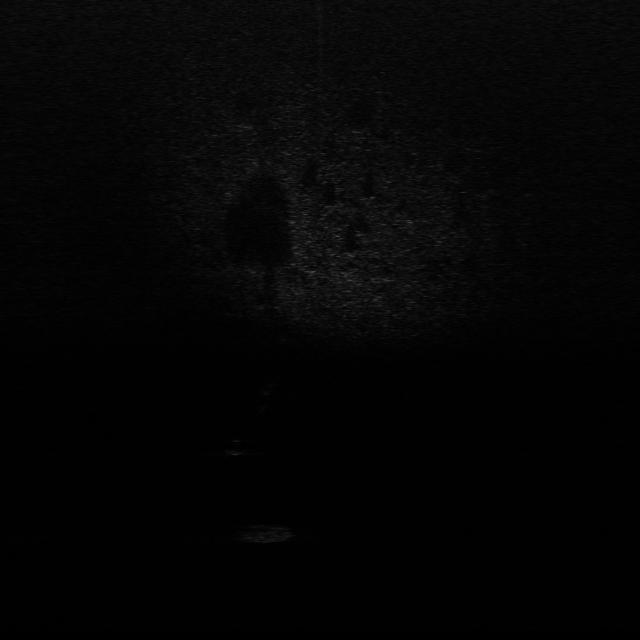ball: (224, 438, 250, 458)
circle cage: (237, 518, 303, 546)
human body: (260, 370, 290, 415)
